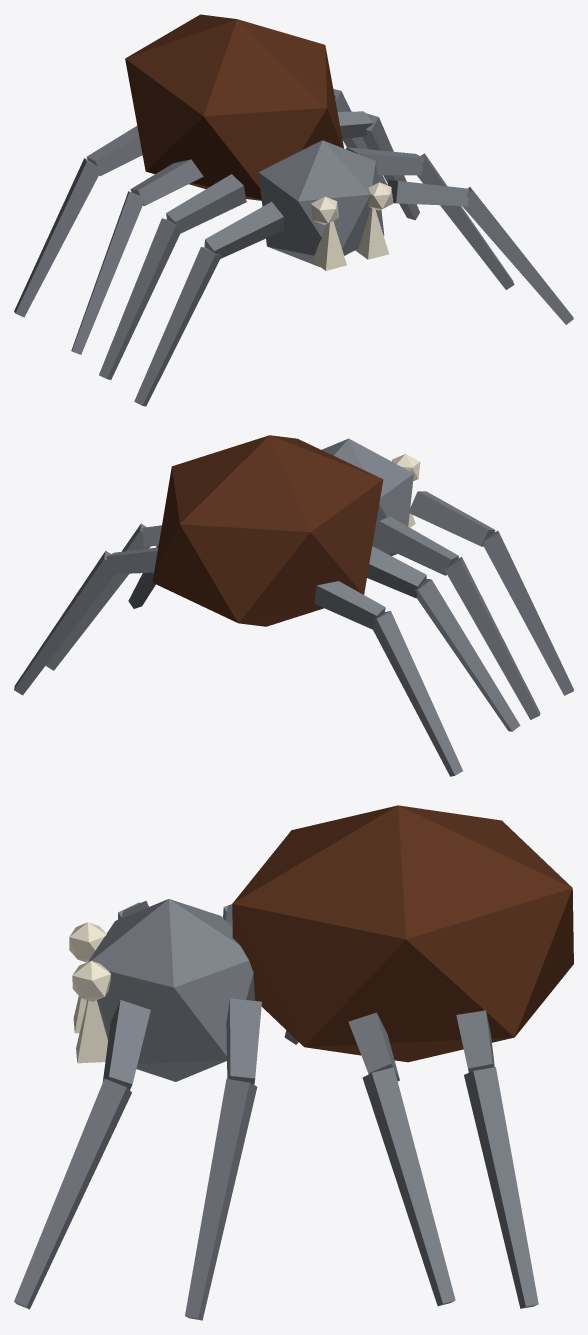
File: npcpose_spider_walk_08.glb
3 views of the same model, one above another, from view 1: azimuth 30°, elevation 25°; view 2: azimuth 150°, elevation 25°; view 3: azimuth 270°, elevation 25° (orthographic). The views are drawn at different scales.
Visible parts, largest first — view 1: npcpose; view 2: npcpose; view 3: npcpose.
Boxes of the visible parts, x1=… form: npcpose: x1=14, y1=14, x2=573, y2=406; npcpose: x1=14, y1=435, x2=573, y2=776; npcpose: x1=14, y1=805, x2=573, y2=1320.
Size of the model in its own units: 1.33 by 0.8437 by 1.11.
